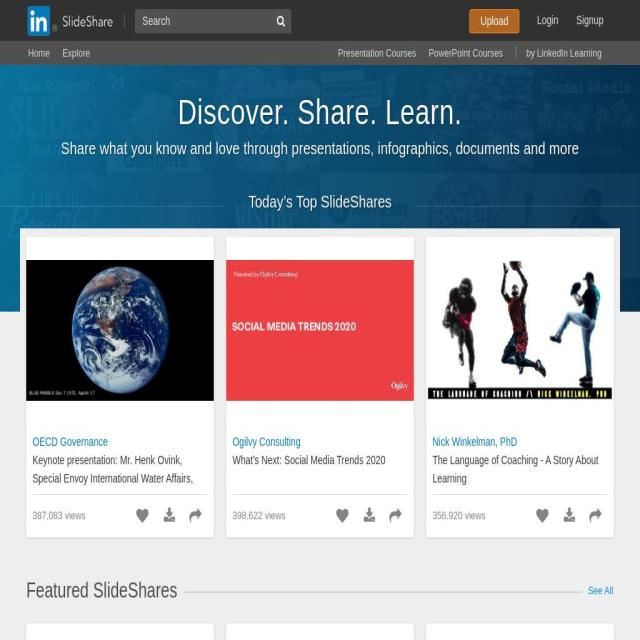button: (225, 236, 414, 424), (26, 236, 214, 424), (426, 236, 614, 424), (32, 450, 208, 486), (232, 450, 407, 486), (432, 450, 607, 486), (225, 622, 414, 640), (26, 622, 214, 640), (566, 0, 614, 41), (526, 0, 569, 41), (470, 8, 520, 34), (27, 14, 115, 28), (130, 506, 158, 526), (530, 506, 558, 526), (331, 506, 358, 526), (183, 506, 208, 526), (383, 506, 408, 526), (583, 506, 608, 526), (271, 8, 291, 32)
field: (134, 8, 292, 34)
heading: (0, 91, 640, 132), (0, 135, 640, 160), (26, 576, 178, 606), (248, 191, 393, 211)
iframe: (428, 625, 616, 640)
image: (426, 242, 614, 419), (225, 260, 414, 401), (26, 260, 214, 401), (28, 6, 112, 36)
link: (432, 434, 517, 448), (33, 434, 108, 448), (232, 434, 300, 448), (338, 47, 417, 59), (428, 47, 503, 59), (537, 47, 602, 59), (588, 584, 613, 598), (62, 47, 90, 59), (163, 506, 178, 526), (363, 506, 378, 526), (563, 506, 578, 526), (28, 47, 50, 59)
text: (32, 507, 86, 525), (232, 507, 286, 525), (432, 507, 486, 525), (526, 47, 536, 59)
